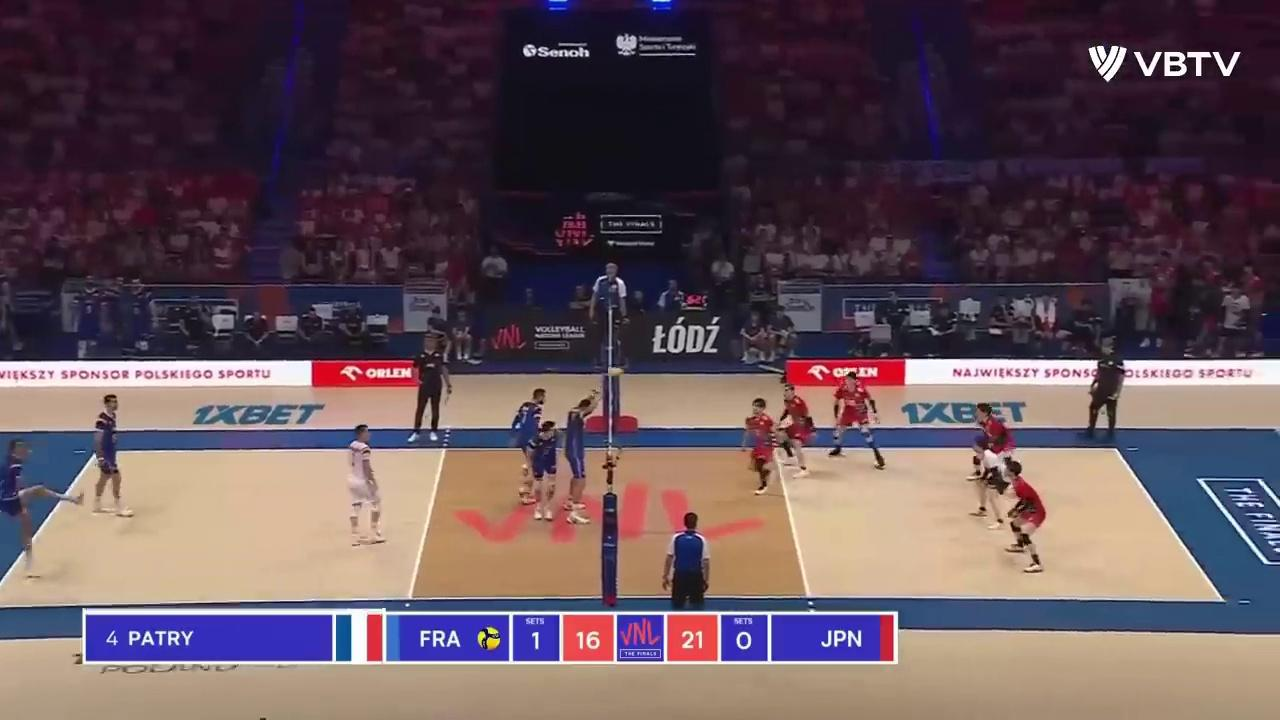ball: (607, 368, 624, 378)
